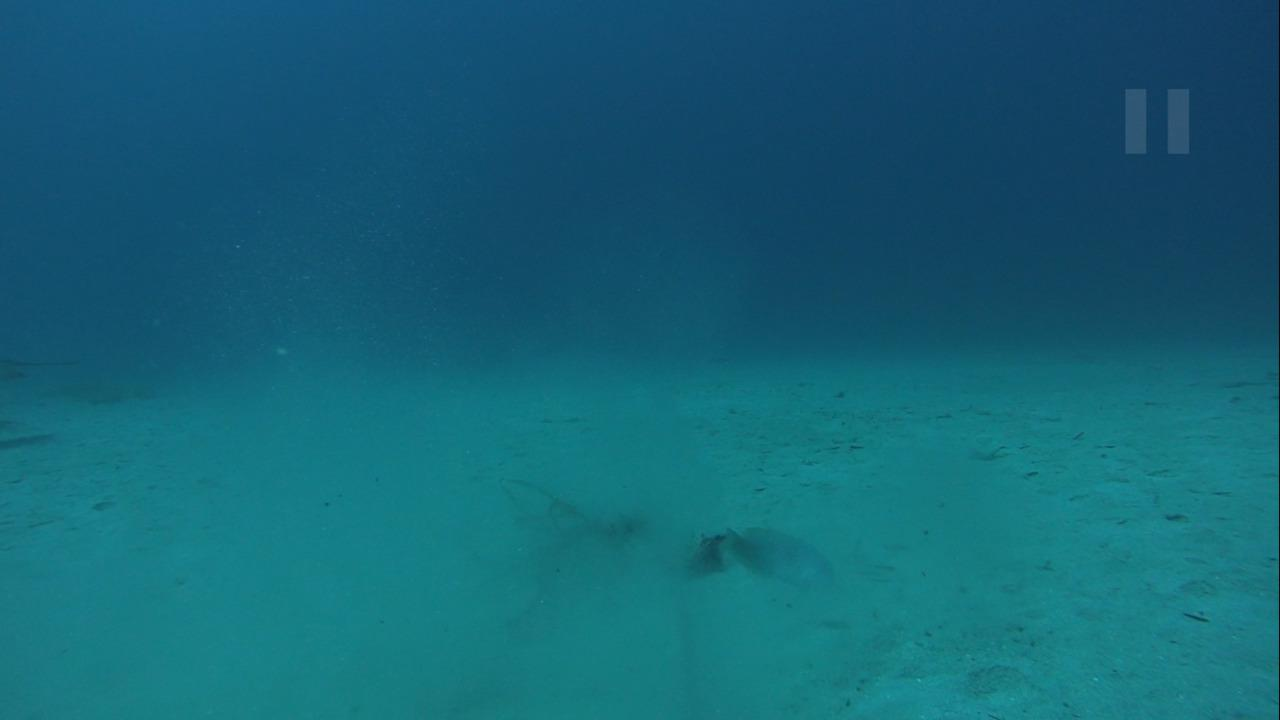myliobatis: (8, 346, 91, 390)
raor: (720, 517, 836, 592)
